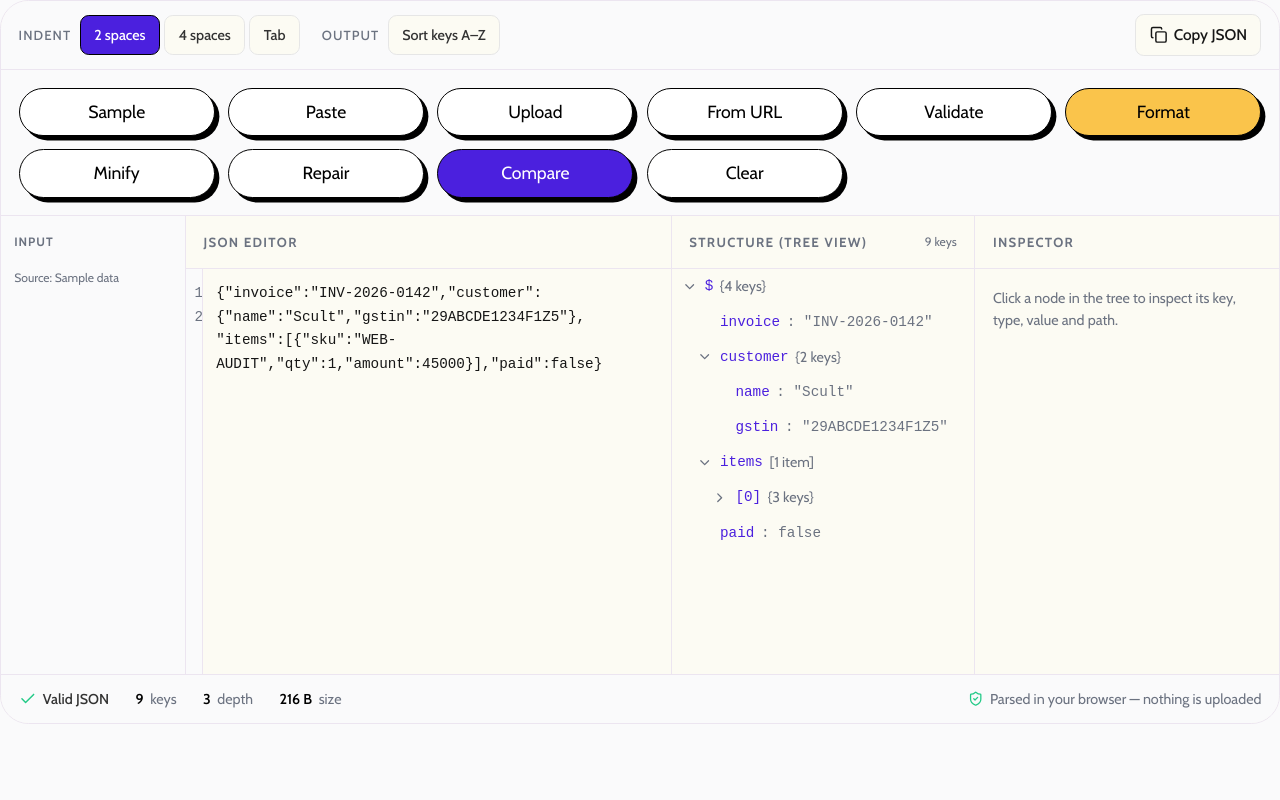
Test: JsonFormatter › clears the input and shows one empty-state explanation, not several
This screenshot has width=1280, height=800.
Click the button "Clear": (745, 173) [647, 149, 843, 198]
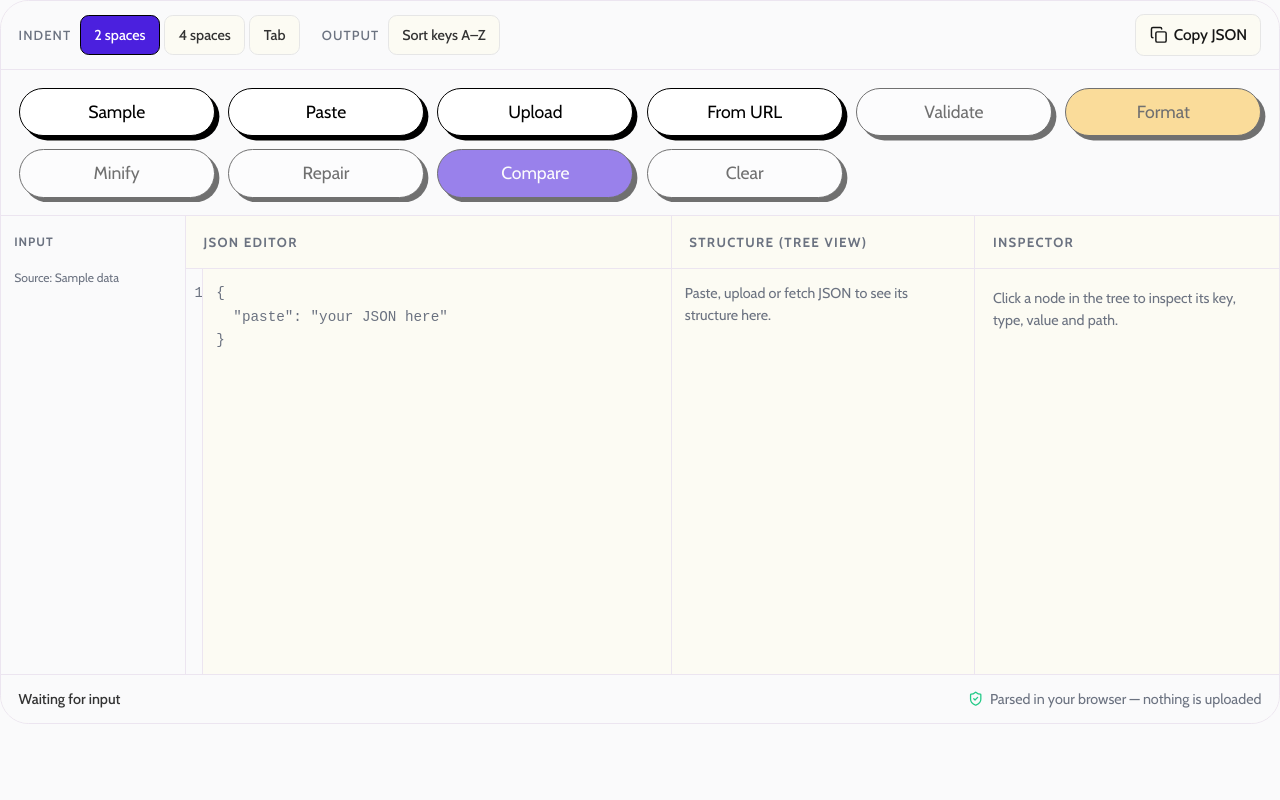
expect the text "Waiting for input" is shown: met, box [19, 686, 120, 712]
expect the text "Paste, upload or fetch JSON to see its structure here." is shown: met, box [685, 284, 908, 324]
